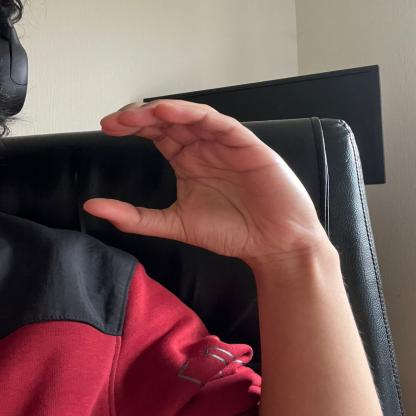C: (82, 93, 317, 265)
